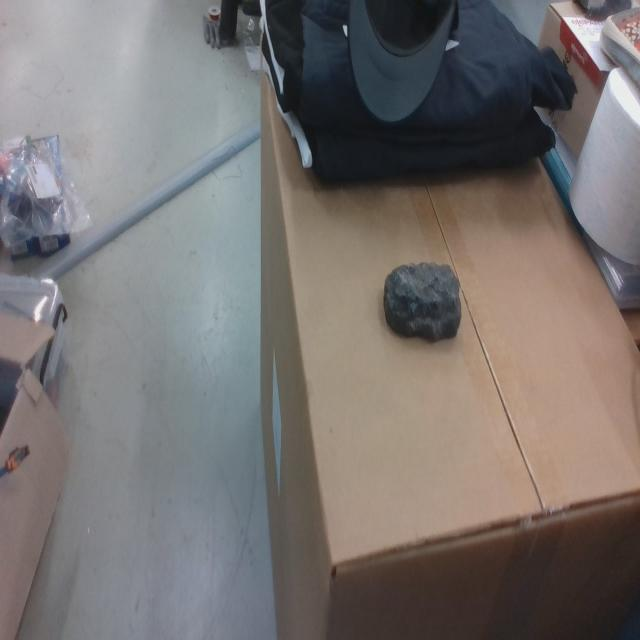stone: (383, 260, 463, 344)
